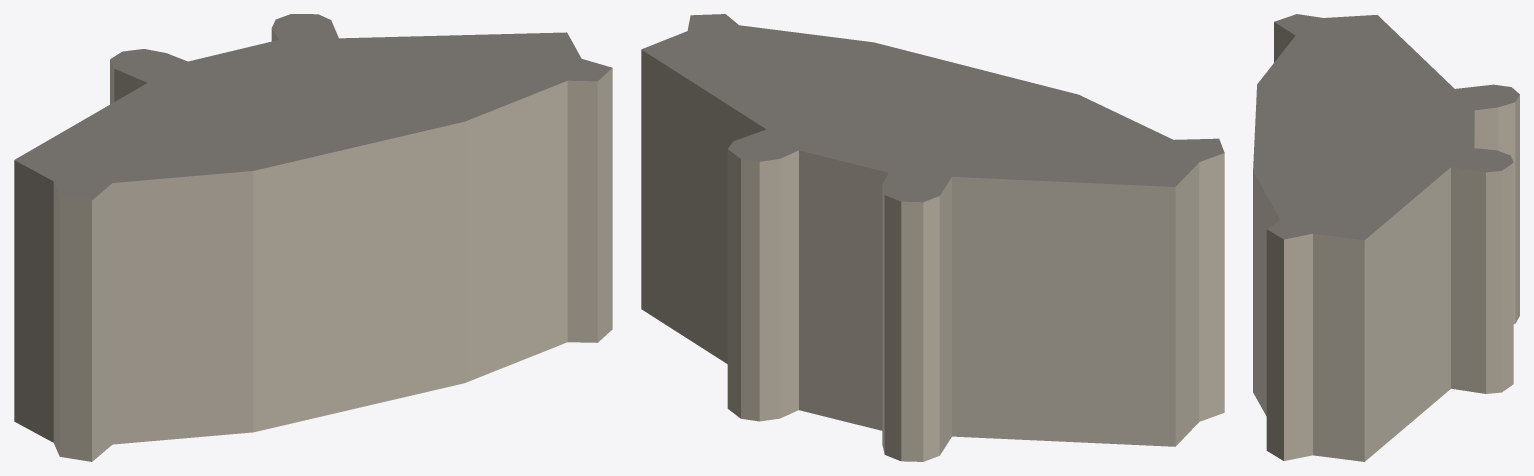
3 renders of one model, left to right at view 1: azimuth 30°, elevation 25°; view 2: azimuth 150°, elevation 25°; view 3: azimuth 270°, elevation 25°, orthographic. The views are drawn at different scales.
Visible parts, largest first — view 1: HP-w1270806031; view 2: HP-w1270806031; view 3: HP-w1270806031.
Part boxes in pixels (x1,y1,x2,y2): HP-w1270806031: (14, 14, 612, 461); HP-w1270806031: (641, 14, 1224, 461); HP-w1270806031: (1253, 14, 1519, 461).
Bounding box in the file's own units: 39.43 × 18 × 19.65.
